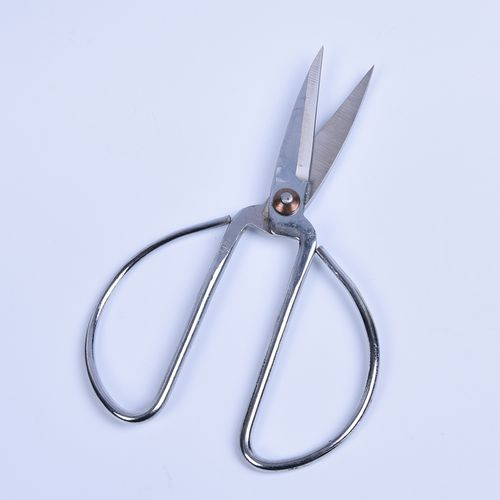scissor: (84, 45, 380, 465)
